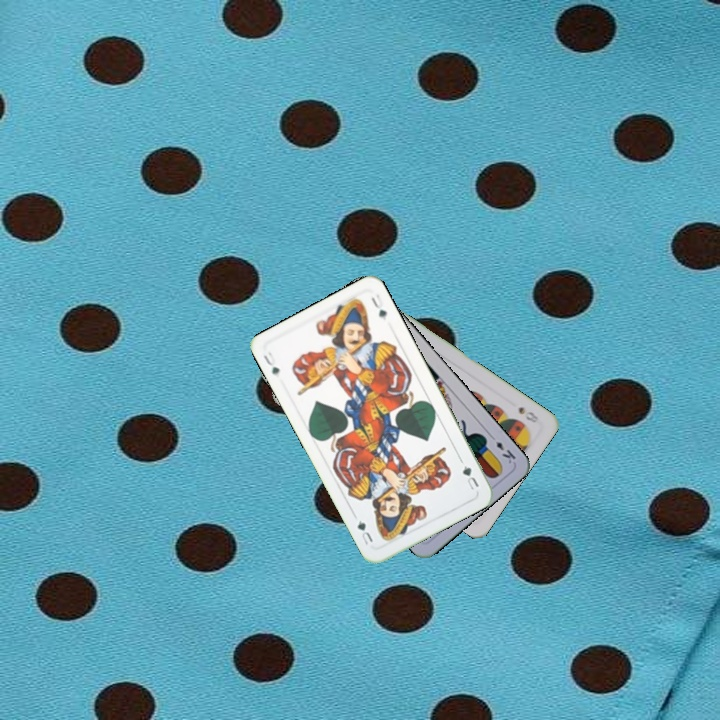EK: (486, 431, 519, 466)
GU: (458, 461, 482, 493), (259, 348, 282, 378)
S8: (514, 402, 541, 426)
